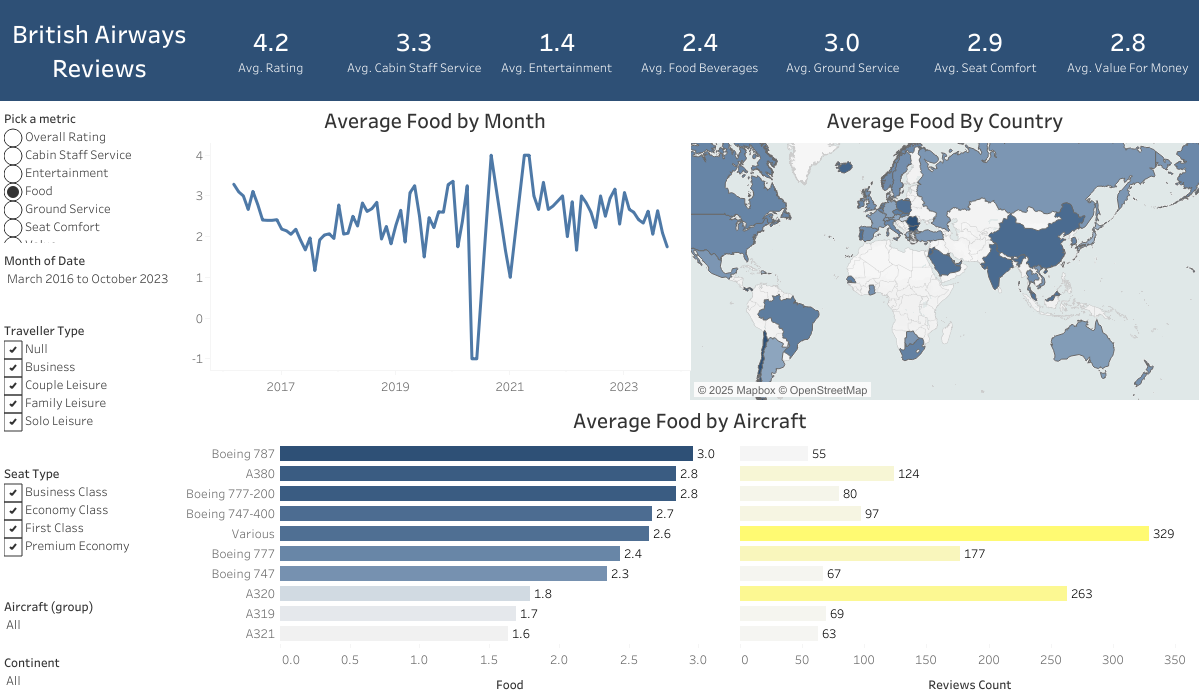

This screenshot's page, from the dashboard's own definition file:
{"tool":"tableau","page":{"name":"Dashboard 1","canvas":[1200,700],"ordinal":0},"visuals":[{"type":"worksheet","title":"Sheet 5","mark":"Automatic","rows":["Calculation_1055589386711056"],"cols":["Calculation_1055589386801170"],"box":[0,0,200,100]},{"type":"worksheet","title":"Summary","mark":"Automatic","box":[200,0,1000,100]},{"type":"worksheet","title":"Month","mark":"Automatic","rows":["Calculation_1055589314838624"],"cols":["date"],"box":[180,100,510,300]},{"type":"worksheet","title":"Map","mark":"Automatic","box":[690,100,510,300]},{"type":"parameter","param":"[Parameters].[Parameter 1]","box":[0,104,180,142.5]},{"type":"filter","title":"Map","param":"[federated.0woixfa1c7z9e11dp4zgl06jfqlw].[tmn:date:qk]","box":[0,246.5,180,70]},{"type":"filter","title":"Map","param":"[federated.0woixfa1c7z9e11dp4zgl06jfqlw].[none:traveller_type:nk]","box":[0,316.5,180,142.5]},{"type":"worksheet","title":"Aircraft","mark":"Automatic","cols":["Calculation_1055589314838624","ba_reviews.csv_76EE5F9424BB4F15BE398E25E0D3D041"],"box":[180,400,1020,300]},{"type":"filter","title":"Map","param":"[federated.0woixfa1c7z9e11dp4zgl06jfqlw].[none:seat_type:nk]","box":[0,459,180,133]},{"type":"filter","title":"Map","param":"[federated.0woixfa1c7z9e11dp4zgl06jfqlw].[Aircraft (group)]","box":[0,592,180,56]}]}

Visuals, with their boxes in screenshot pixels (x1, y1, x2, y2), scaled from the page's 1200x700 canvas onto the 1199x699 screenshot:
"Sheet 5" worksheet: bbox=[0, 0, 200, 100]
"Summary" worksheet: bbox=[200, 0, 1198, 100]
"Month" worksheet: bbox=[180, 100, 689, 399]
"Map" worksheet: bbox=[689, 100, 1198, 399]
parameter: bbox=[0, 104, 180, 246]
"Map" filter: bbox=[0, 246, 180, 316]
"Map" filter: bbox=[0, 316, 180, 458]
"Aircraft" worksheet: bbox=[180, 399, 1198, 698]
"Map" filter: bbox=[0, 458, 180, 591]
"Map" filter: bbox=[0, 591, 180, 647]
